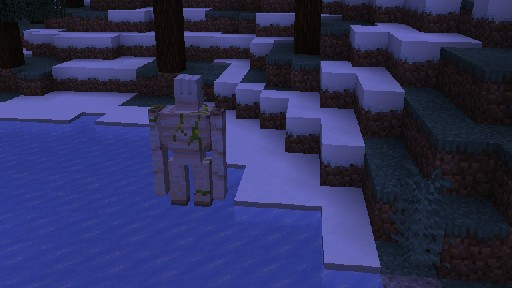iron_golem: (147, 73, 227, 206)
